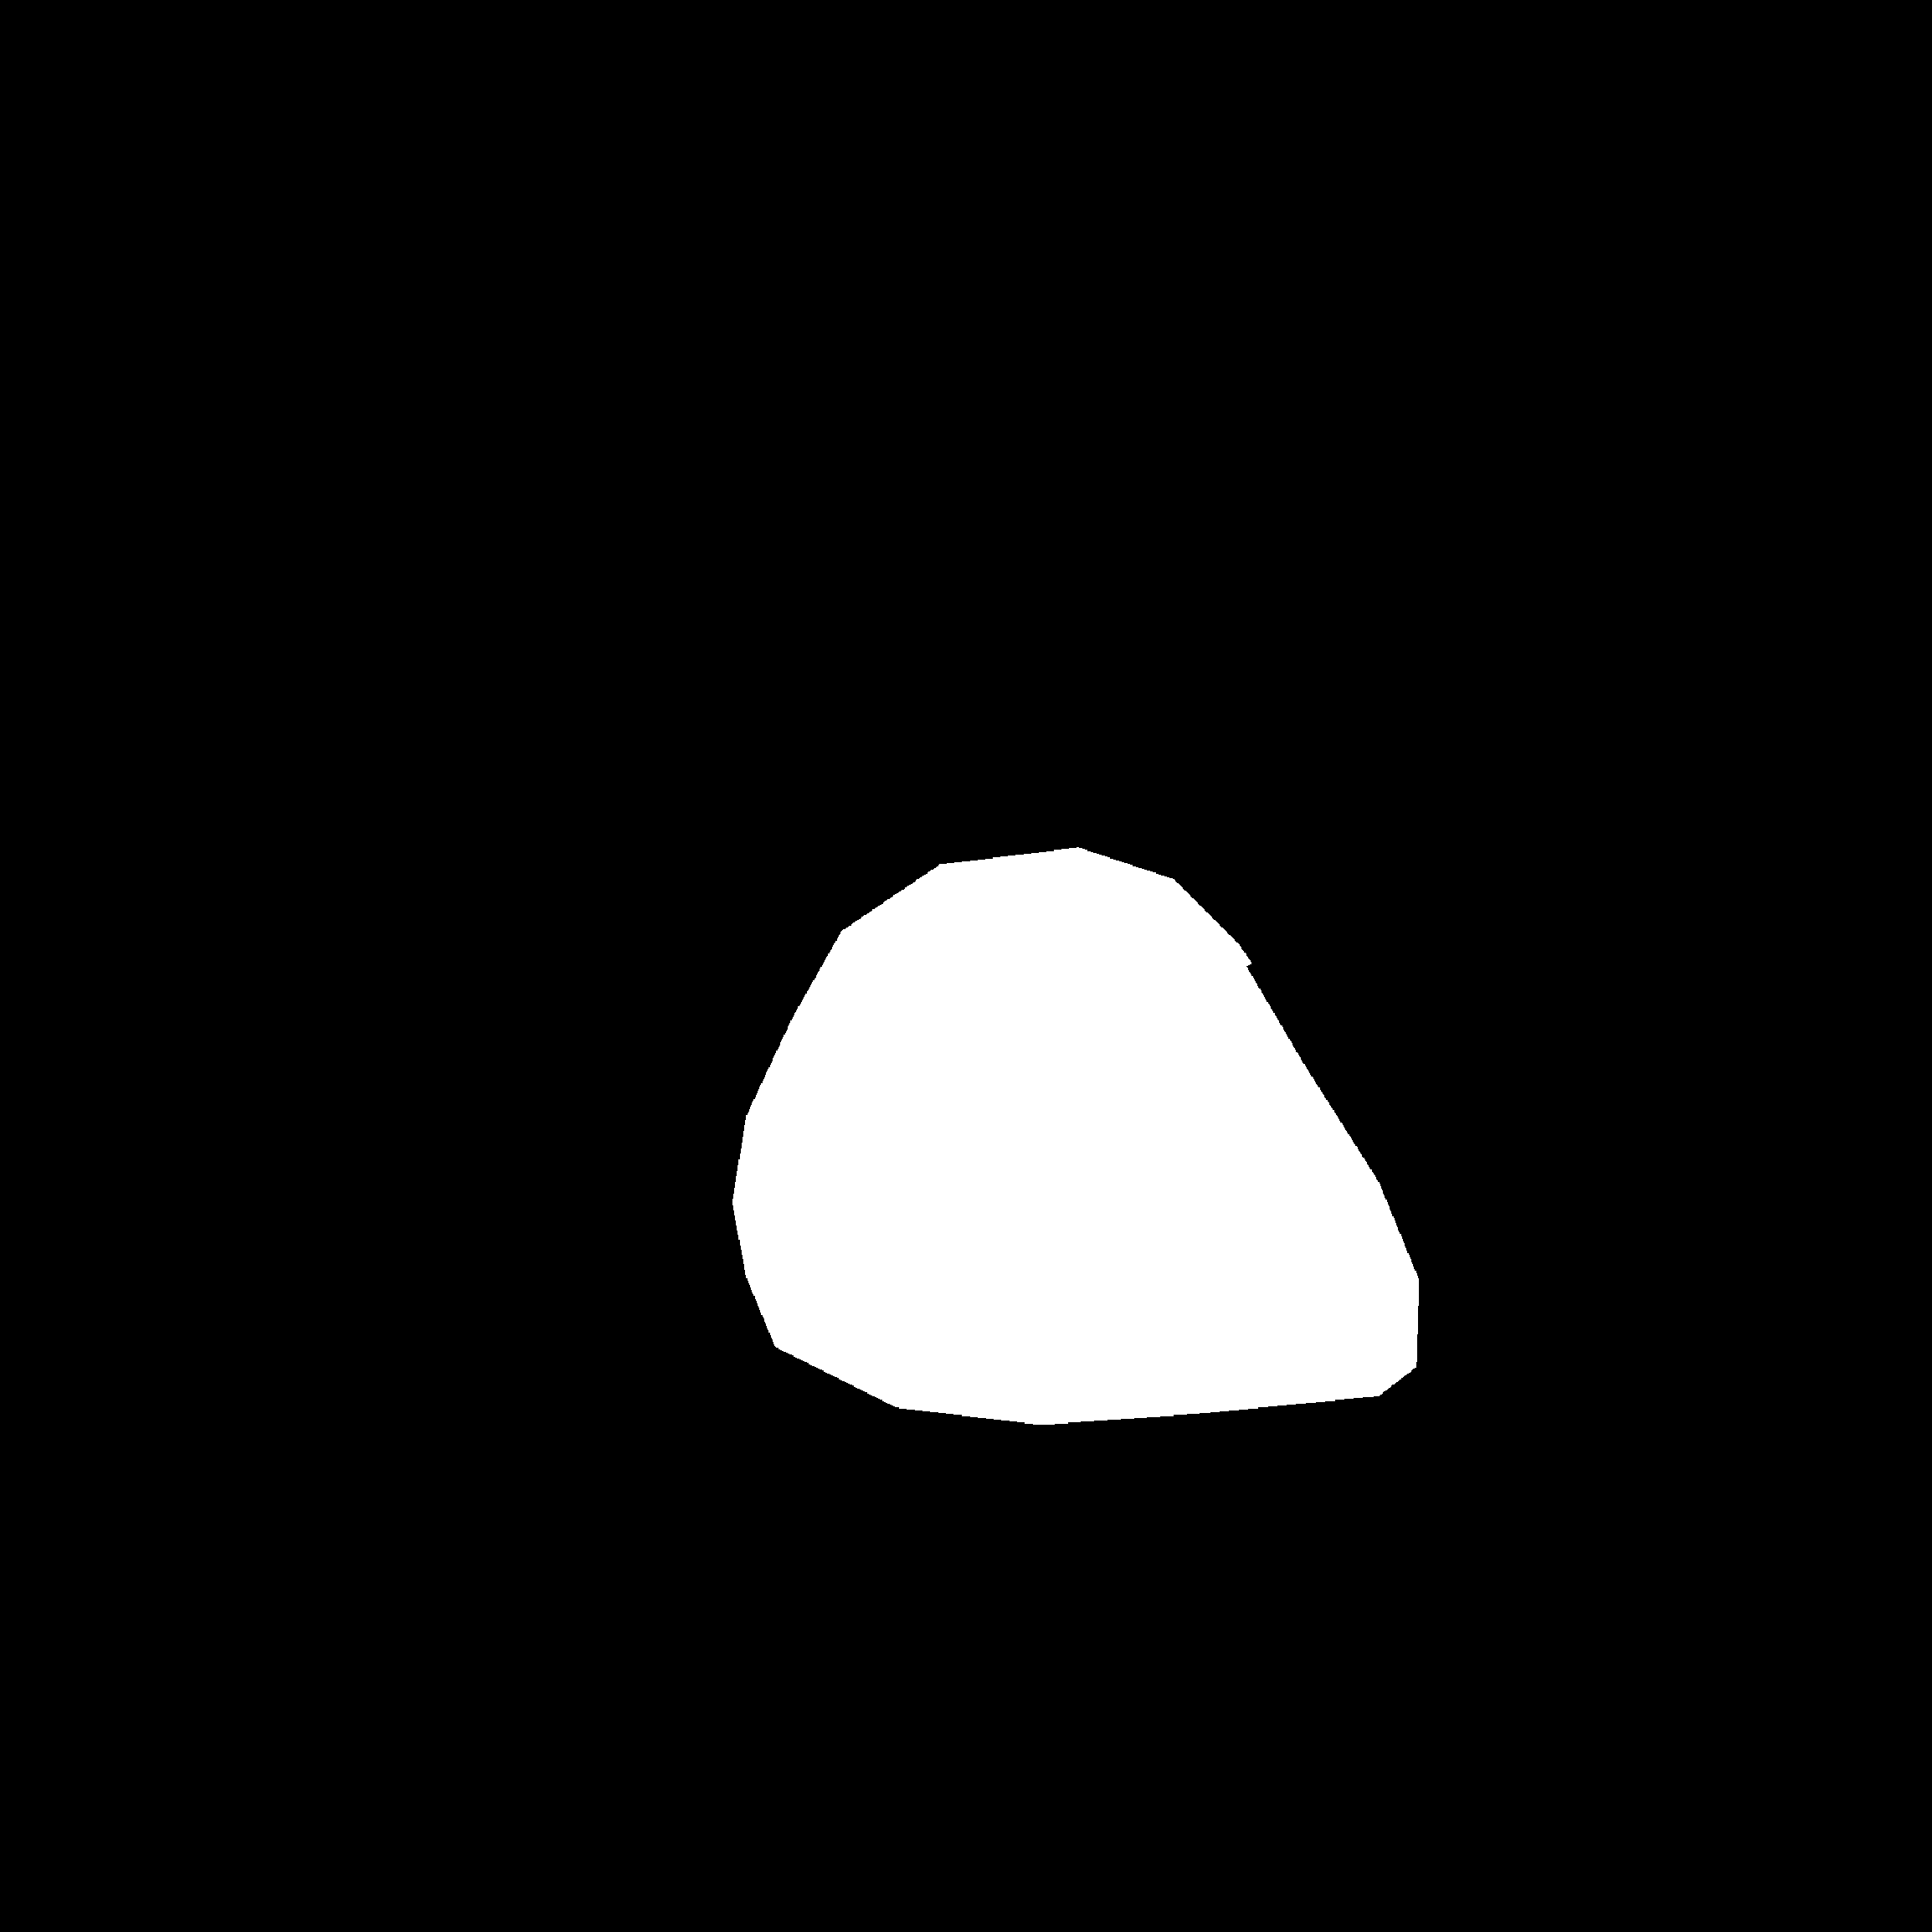heart: (729, 993, 1415, 1461)
left_lung: (239, 212, 855, 1553)
right_lung: (1007, 214, 1672, 1553)
